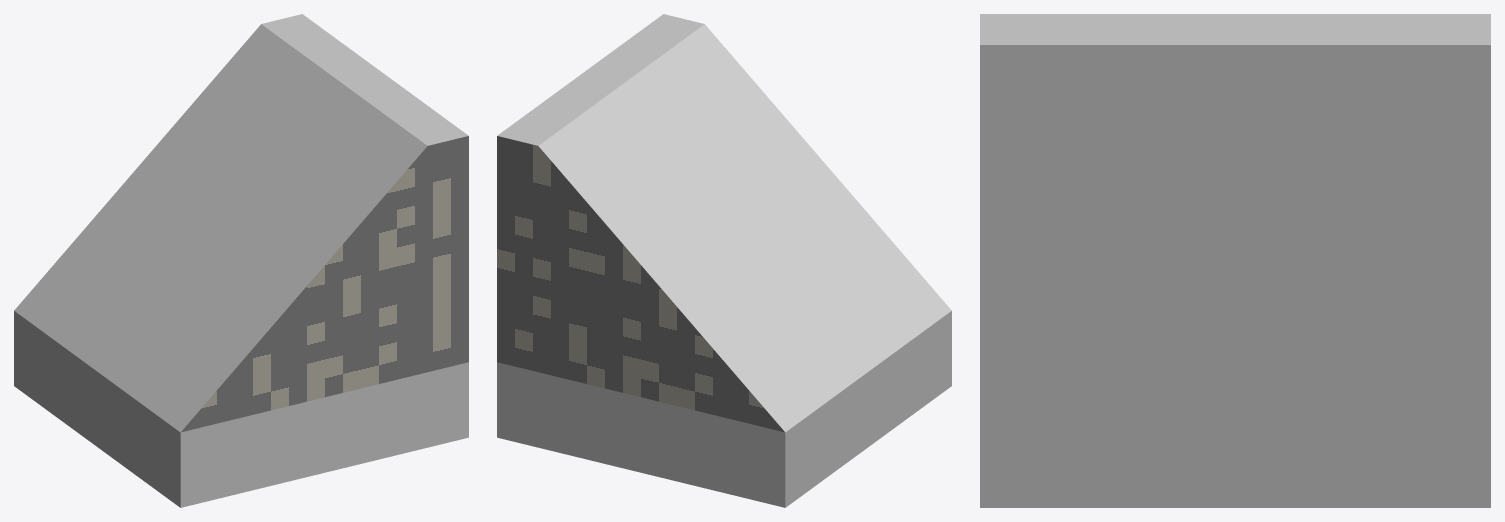
The model's file is slope87_5_shave2_base4.obj.
The picture shows the model from 3 angles, left to right: view 1: azimuth 30°, elevation 25°; view 2: azimuth 150°, elevation 25°; view 3: azimuth 270°, elevation 25°; orthographic projection. The views are drawn at different scales.
Bounding box in the file's own units: 1 × 1 × 1.
